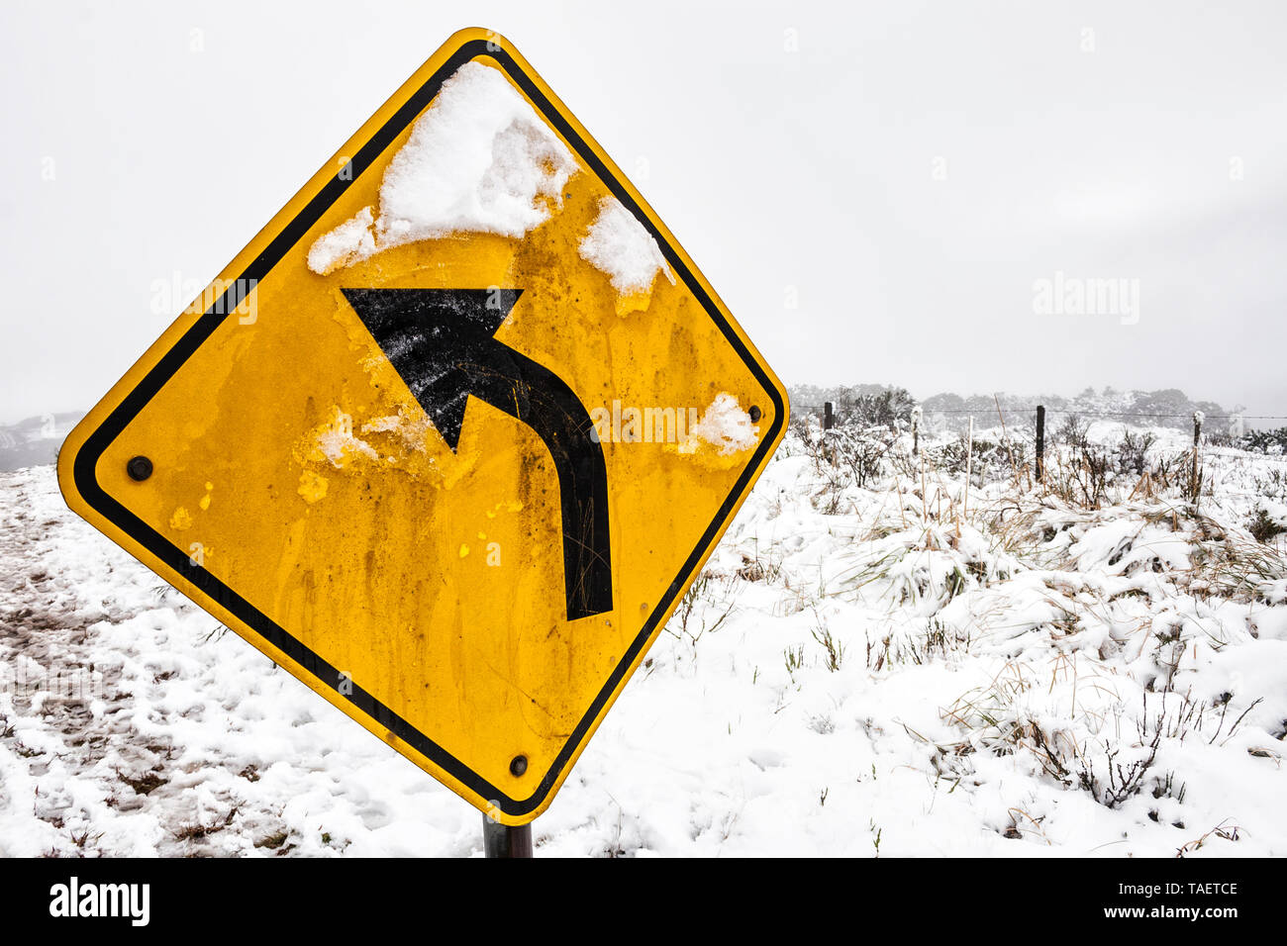Left Curve Ahead: (71, 517, 703, 946)
